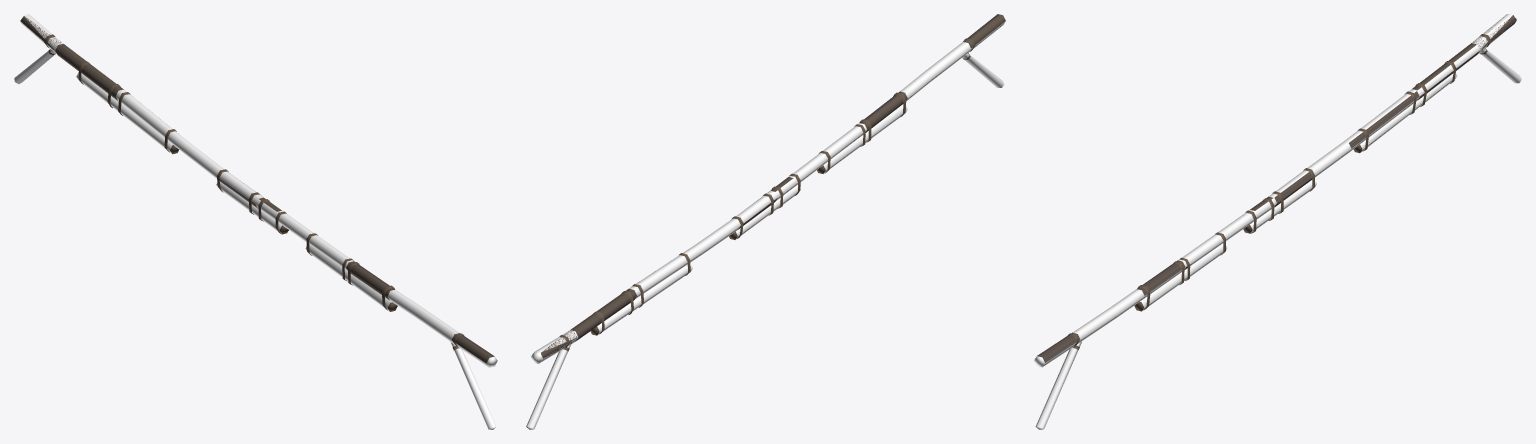
Rendered from objects_un_log_bridge01.gltf.
3 renders of one model, left to right at view 1: azimuth 30°, elevation 25°; view 2: azimuth 150°, elevation 25°; view 3: azimuth 330°, elevation 25°, orthographic.
Visible parts, largest first — view 1: um_objects_un_log_bridge01_model_lod0Shape:objects_un_log_br (×2); view 2: um_objects_un_log_bridge01_model_lod0Shape:objects_un_log_br (×2); view 3: um_objects_un_log_bridge01_model_lod0Shape:objects_un_log_br (×2).
Part boxes in pixels (x1=…): um_objects_un_log_bridge01_model_lod0Shape:objects_un_log_br (×2): x1=14, y1=14, x2=497, y2=429; um_objects_un_log_bridge01_model_lod0Shape:objects_un_log_br (×2): x1=526, y1=14, x2=1005, y2=429; um_objects_un_log_bridge01_model_lod0Shape:objects_un_log_br (×2): x1=1034, y1=14, x2=1521, y2=429.
Size of what is drawn, in the model's own units: 0.9081 by 4.63 by 54.22.
Materials: 2 (1 with a texture image).
